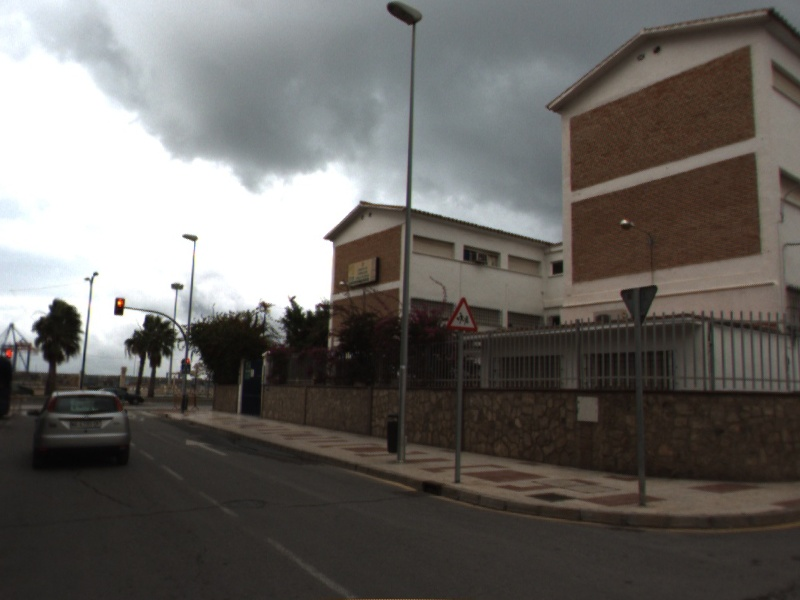STRAIGHT: (184, 436, 231, 459)
